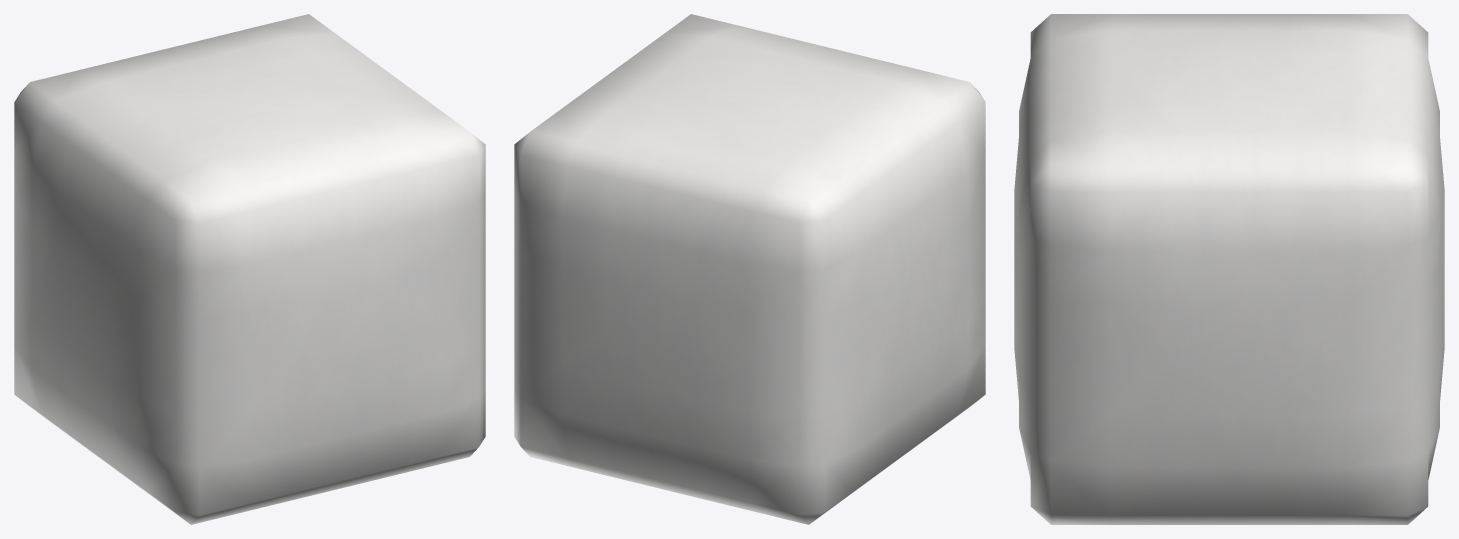
File: clay.obj
3 renders of one model, left to right at view 1: azimuth 30°, elevation 25°; view 2: azimuth 150°, elevation 25°; view 3: azimuth 270°, elevation 25°, orthographic. The views are drawn at different scales.
Visible parts, largest first — view 1: 立方体; view 2: 立方体; view 3: 立方体.
Part boxes in pixels (<box>): 立方体: <box>14,14,485,524</box>; 立方体: <box>514,14,985,524</box>; 立方体: <box>1014,14,1444,524</box>.
Size of the model in its own units: 2.18 by 2.14 by 2.17.
Materials: 1 (1 with a texture image).
